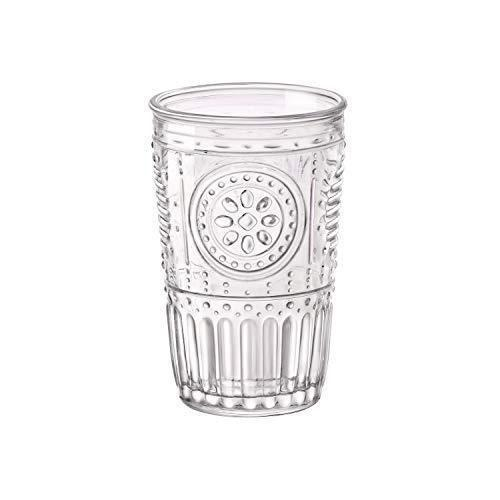glass-normal: (145, 82, 349, 419)
